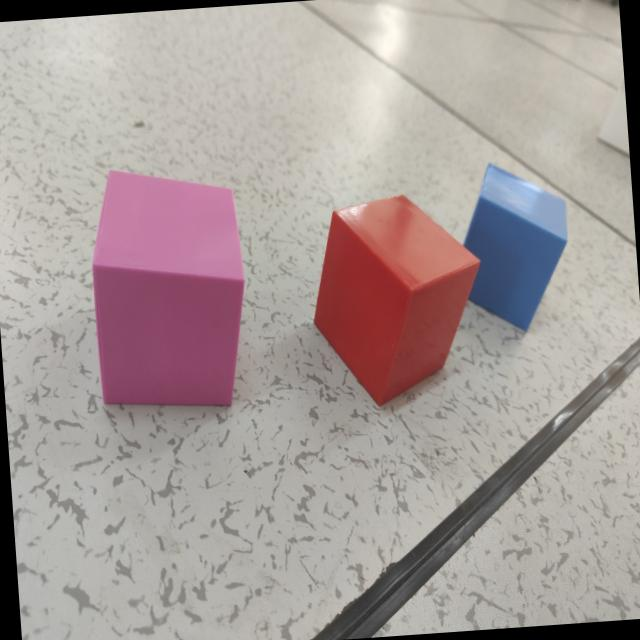blue: (465, 163, 569, 332)
pink: (91, 171, 245, 409)
red: (313, 196, 480, 408)
